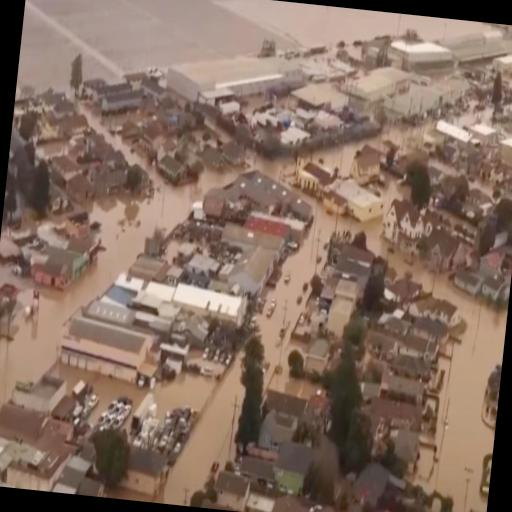flood: (0, 185, 190, 405), (16, 0, 401, 89), (249, 153, 422, 278), (436, 274, 508, 512), (258, 210, 335, 391), (155, 351, 244, 506), (64, 369, 145, 417), (371, 117, 434, 155), (312, 141, 364, 177), (390, 252, 435, 291), (377, 171, 411, 215), (199, 167, 240, 192)
house: (166, 46, 288, 111), (60, 318, 144, 388), (170, 280, 250, 333), (29, 239, 93, 295), (344, 60, 414, 108), (379, 198, 428, 246), (230, 246, 277, 296), (390, 34, 454, 68), (292, 154, 334, 202), (212, 468, 252, 512), (351, 142, 384, 194), (432, 230, 466, 270), (402, 330, 440, 364), (102, 88, 144, 118), (348, 192, 385, 226), (304, 333, 330, 373), (452, 263, 482, 295), (52, 152, 82, 181), (158, 152, 186, 182), (438, 298, 464, 330), (482, 274, 505, 302), (140, 122, 158, 154), (498, 129, 512, 169), (224, 143, 248, 166), (479, 250, 503, 271), (80, 478, 104, 497), (494, 52, 512, 77), (272, 238, 288, 262), (208, 148, 226, 167)
